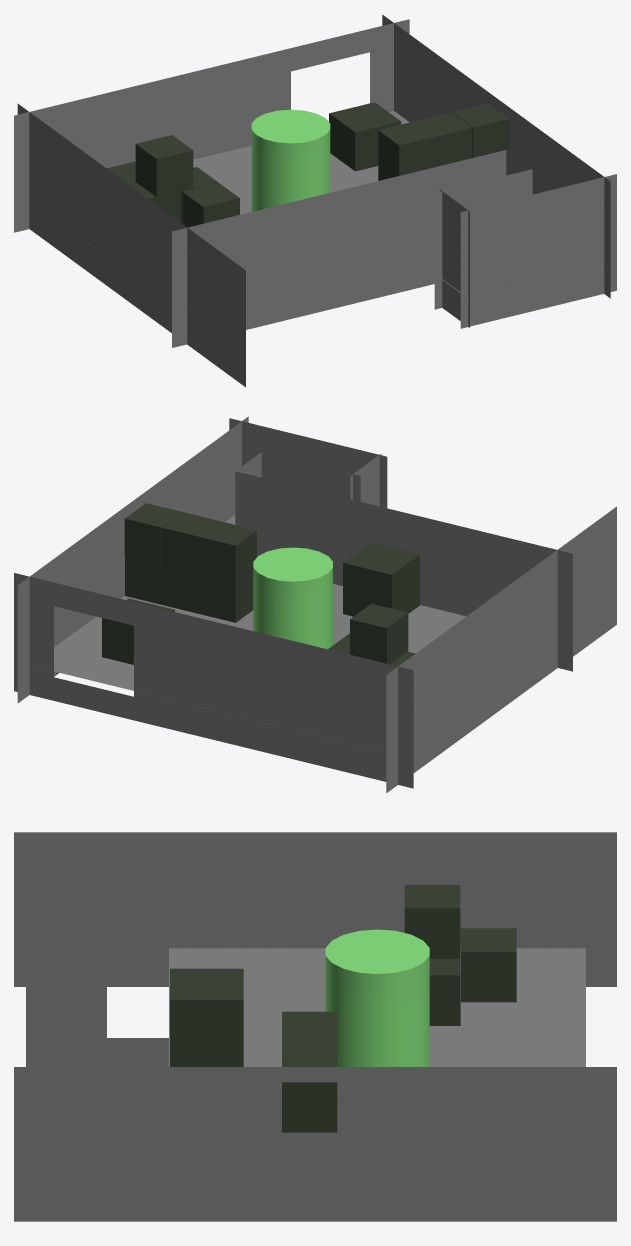
File: stage1-2.fbx
The picture shows the model from 3 angles, top to bottom: view 1: azimuth 30°, elevation 25°; view 2: azimuth 150°, elevation 25°; view 3: azimuth 270°, elevation 25°; orthographic projection. The views are drawn at different scales.
Parts seen in each view (by area): view 1: Plane006, Plane003, Plane002, Plane004, Plane005, Cylinder001, Plane001, Box013, Plane007, Box004, Box009, Plane008 (+4 smaller); view 2: Plane002, Plane003, Plane006, Plane005, Cylinder001, Plane001, Box012, Plane004, Box009, Box004, Plane007, Box011 (+6 smaller); view 3: Plane005, Plane003, Plane001, Cylinder001, Box012, Plane008, Box001, Box004, Box011, Box002, Plane009, Box010 (+1 smaller).
Part boxes in pixels (<box>): Plane006: <box>172,150,506,347</box>; Plane003: <box>17,103,245,387</box>; Plane002: <box>14,19,409,232</box>; Plane004: <box>460,174,616,328</box>; Plane005: <box>382,14,610,298</box>; Cylinder001: <box>251,109,330,211</box>; Plane001: <box>38,111,603,298</box>; Box013: <box>329,102,401,171</box>; Plane007: <box>434,169,532,309</box>; Box004: <box>135,135,193,197</box>; Box009: <box>378,121,435,177</box>; Plane008: <box>439,189,469,327</box>; Plane002: <box>14,573,413,788</box>; Plane003: <box>386,506,616,793</box>; Plane006: <box>235,471,572,671</box>; Plane005: <box>17,416,248,703</box>; Cylinder001: <box>253,547,332,649</box>; Plane001: <box>54,515,555,741</box>; Box012: <box>343,542,419,616</box>; Plane004: <box>229,418,387,508</box>; Box009: <box>199,521,256,584</box>; Box004: <box>350,603,408,664</box>; Plane007: <box>261,452,360,501</box>; Box011: <box>124,503,182,565</box>; Plane005: <box>14,1067,616,1221</box>; Plane003: <box>14,832,616,986</box>; Plane001: <box>169,948,585,1066</box>; Cylinder001: <box>325,929,429,1066</box>; Box012: <box>170,968,243,1066</box>; Plane008: <box>26,979,106,1066</box>; Box001: <box>461,928,516,1002</box>; Box004: <box>404,885,460,958</box>; Box011: <box>282,1059,337,1132</box>; Box002: <box>429,952,460,1025</box>; Plane009: <box>99,1038,168,1066</box>; Box010: <box>282,1035,337,1058</box>.
Size of the model in its own units: 759 by 215 by 759.
